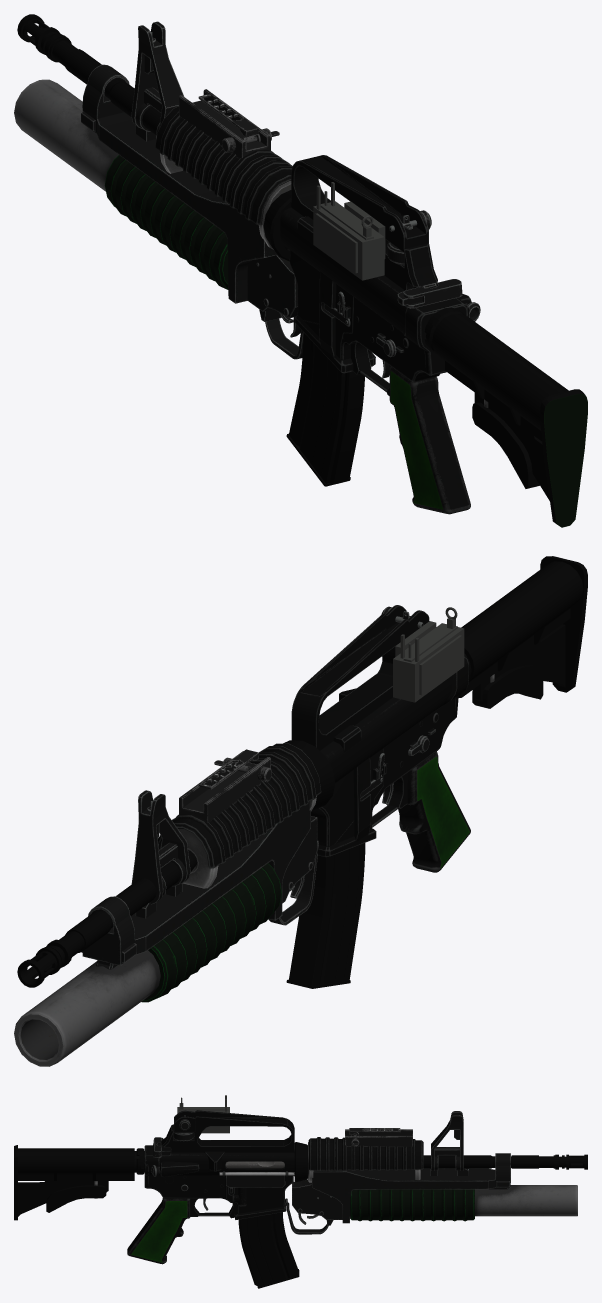
The picture shows the model from 3 angles, top to bottom: view 1: azimuth 30°, elevation 25°; view 2: azimuth 150°, elevation 25°; view 3: azimuth 270°, elevation 25°; orthographic projection. The views are drawn at different scales.
Visible parts, largest first — view 1: m4a1_m203_body, mag, charge, quad_sight; view 2: m4a1_m203_body, mag, quad_sight; view 3: m4a1_m203_body, mag, charge.
Part boxes in pixels (<box>): m4a1_m203_body: <box>14,14,587,527</box>; mag: <box>286,332,364,486</box>; charge: <box>397,279,462,312</box>; quad_sight: <box>316,182,373,240</box>; m4a1_m203_body: <box>14,556,587,1066</box>; mag: <box>286,843,365,988</box>; quad_sight: <box>400,607,457,662</box>; m4a1_m203_body: <box>14,1107,587,1264</box>; mag: <box>238,1212,299,1288</box>; charge: <box>145,1137,284,1168</box>.
Size of the model in its own units: 0.0902 by 0.2862 by 0.84.
9 materials, 8 textured.
